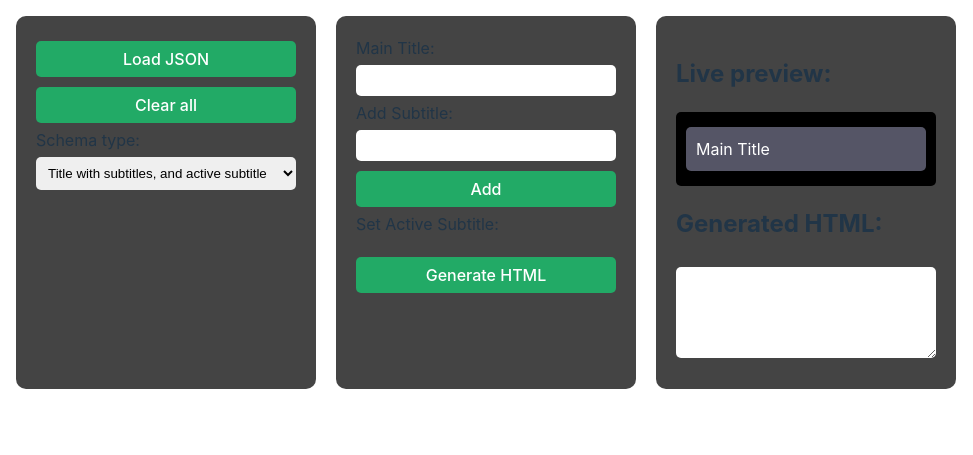
Scenario: SchemaForm › sets a subtitle as active
This screenshot has width=973, height=455.
Step 1. Type "Lesson 1" into the field labelled "Add Subtitle:" → (486, 146), box [356,130,616,161]
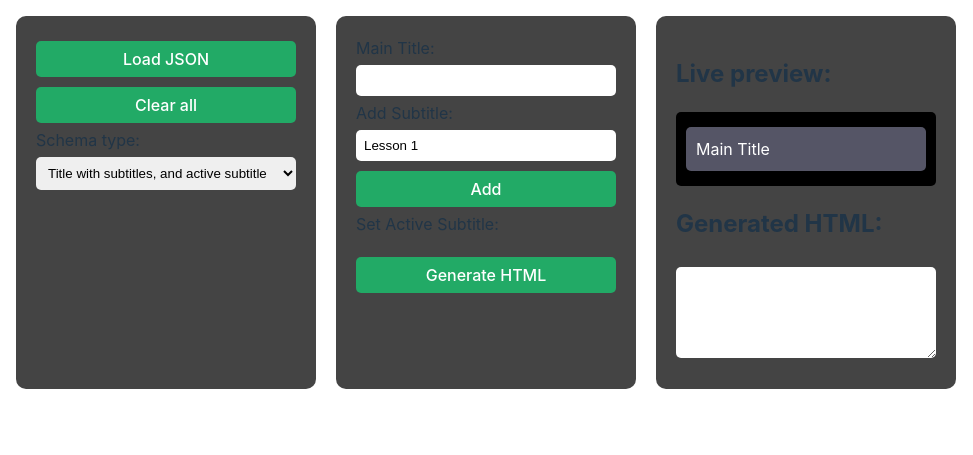
Step 2. Click the button "Add" → click(486, 189), box [356,171,616,207]
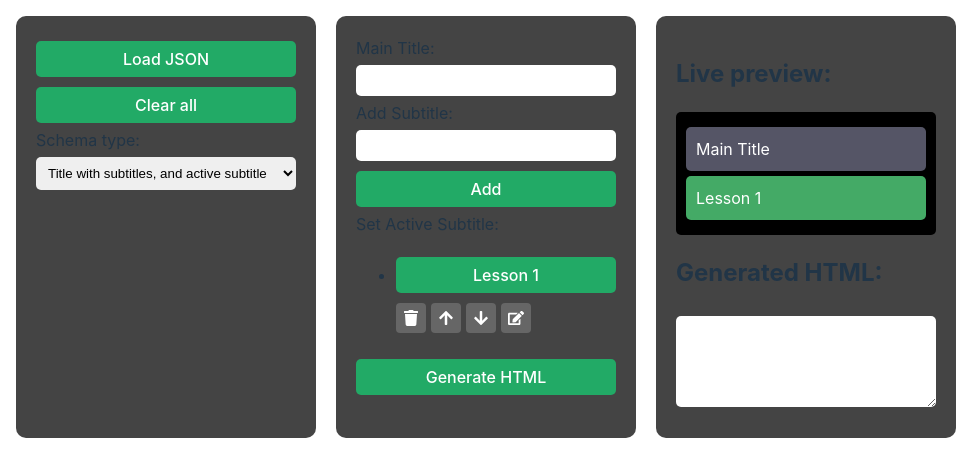
Step 3. Click the button "Lesson 1" → click(506, 275), box [396,257,616,293]
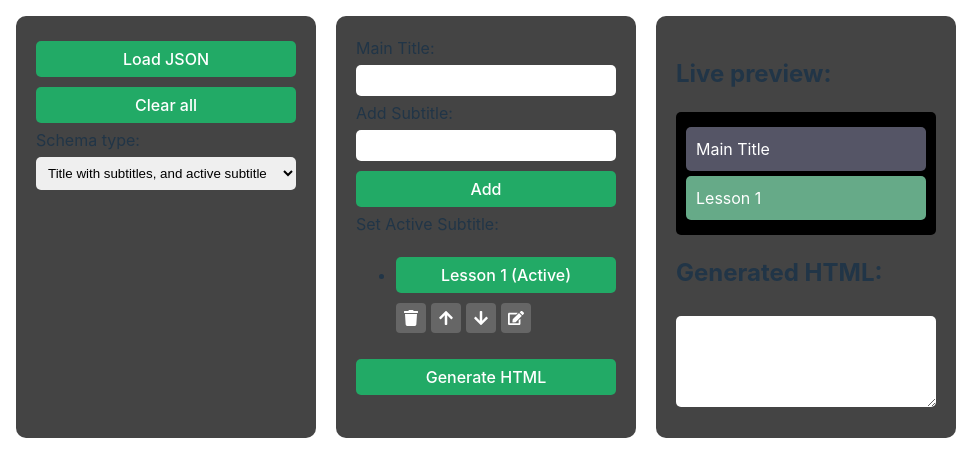
Check: the button "Lesson 1 (Active)" is shown, box [396,257,616,293]
